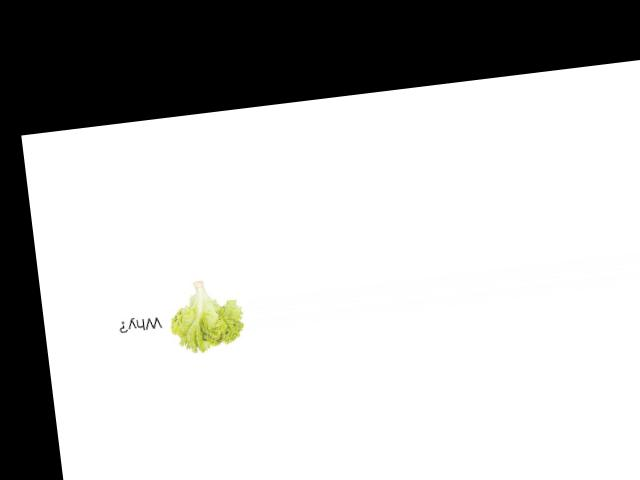lettuce: (158, 274, 249, 357)
